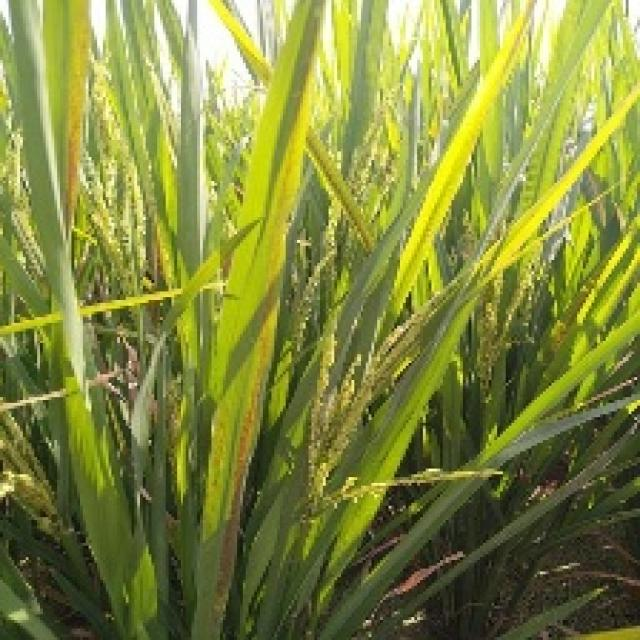Unhealthy: (211, 236, 284, 640), (65, 0, 90, 243)
